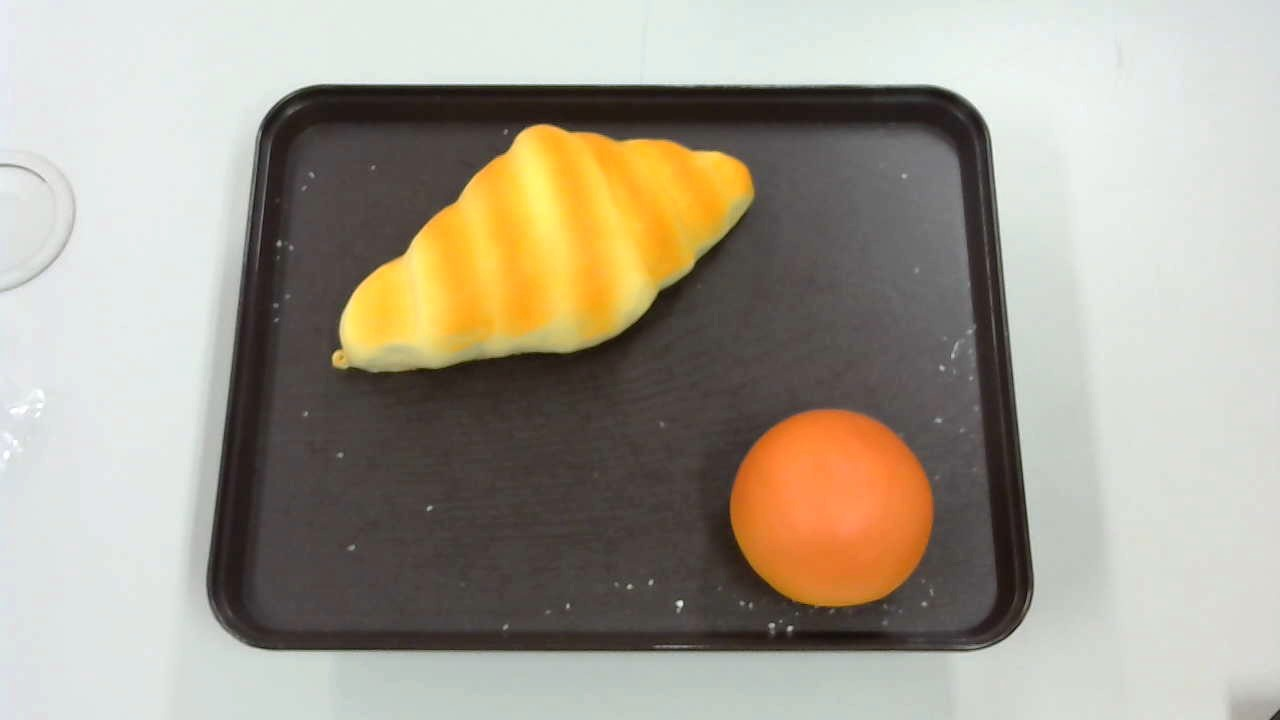bun: (730, 408, 934, 606)
croissant: (332, 123, 754, 372)
